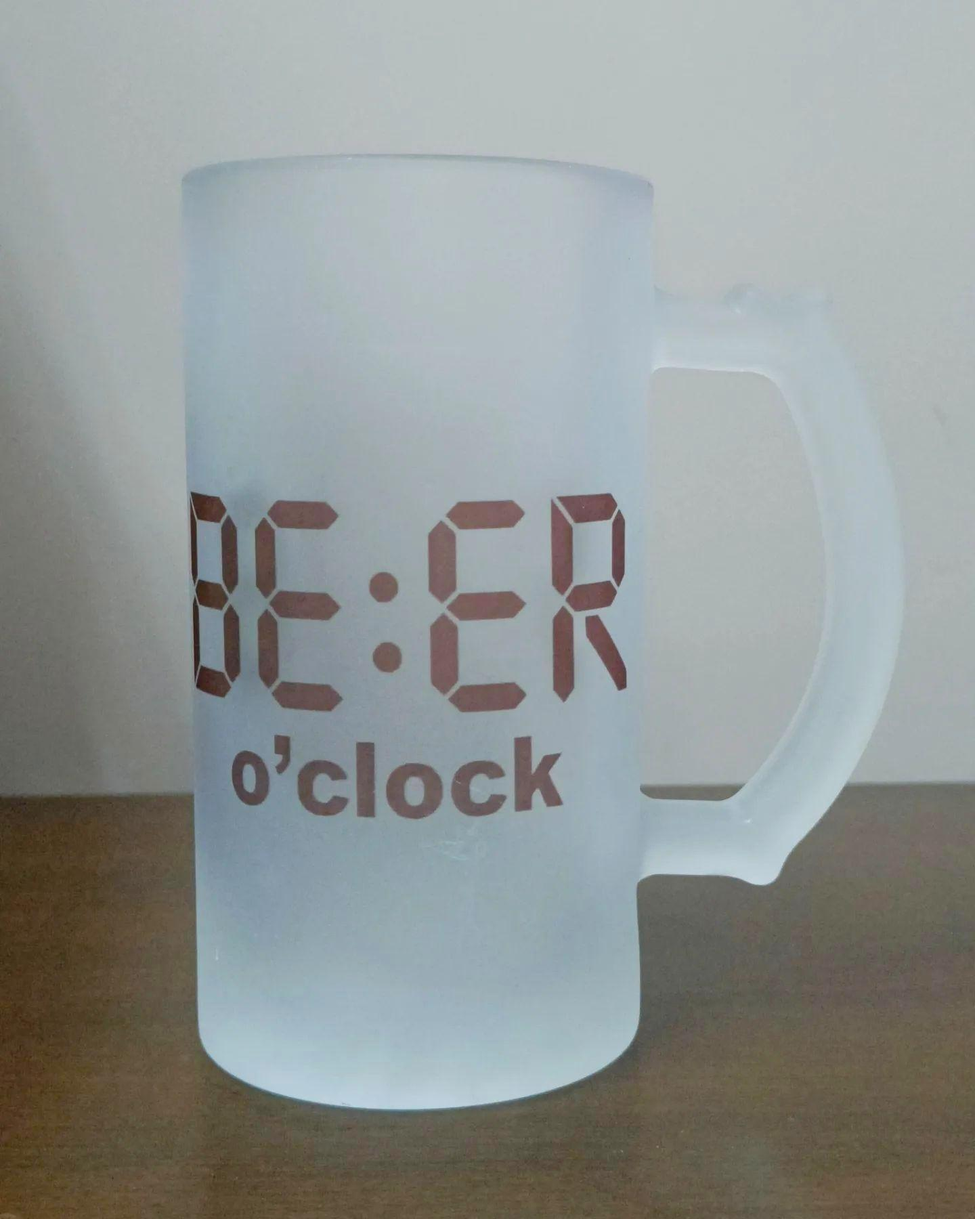glass-mug: (166, 139, 916, 1120)
